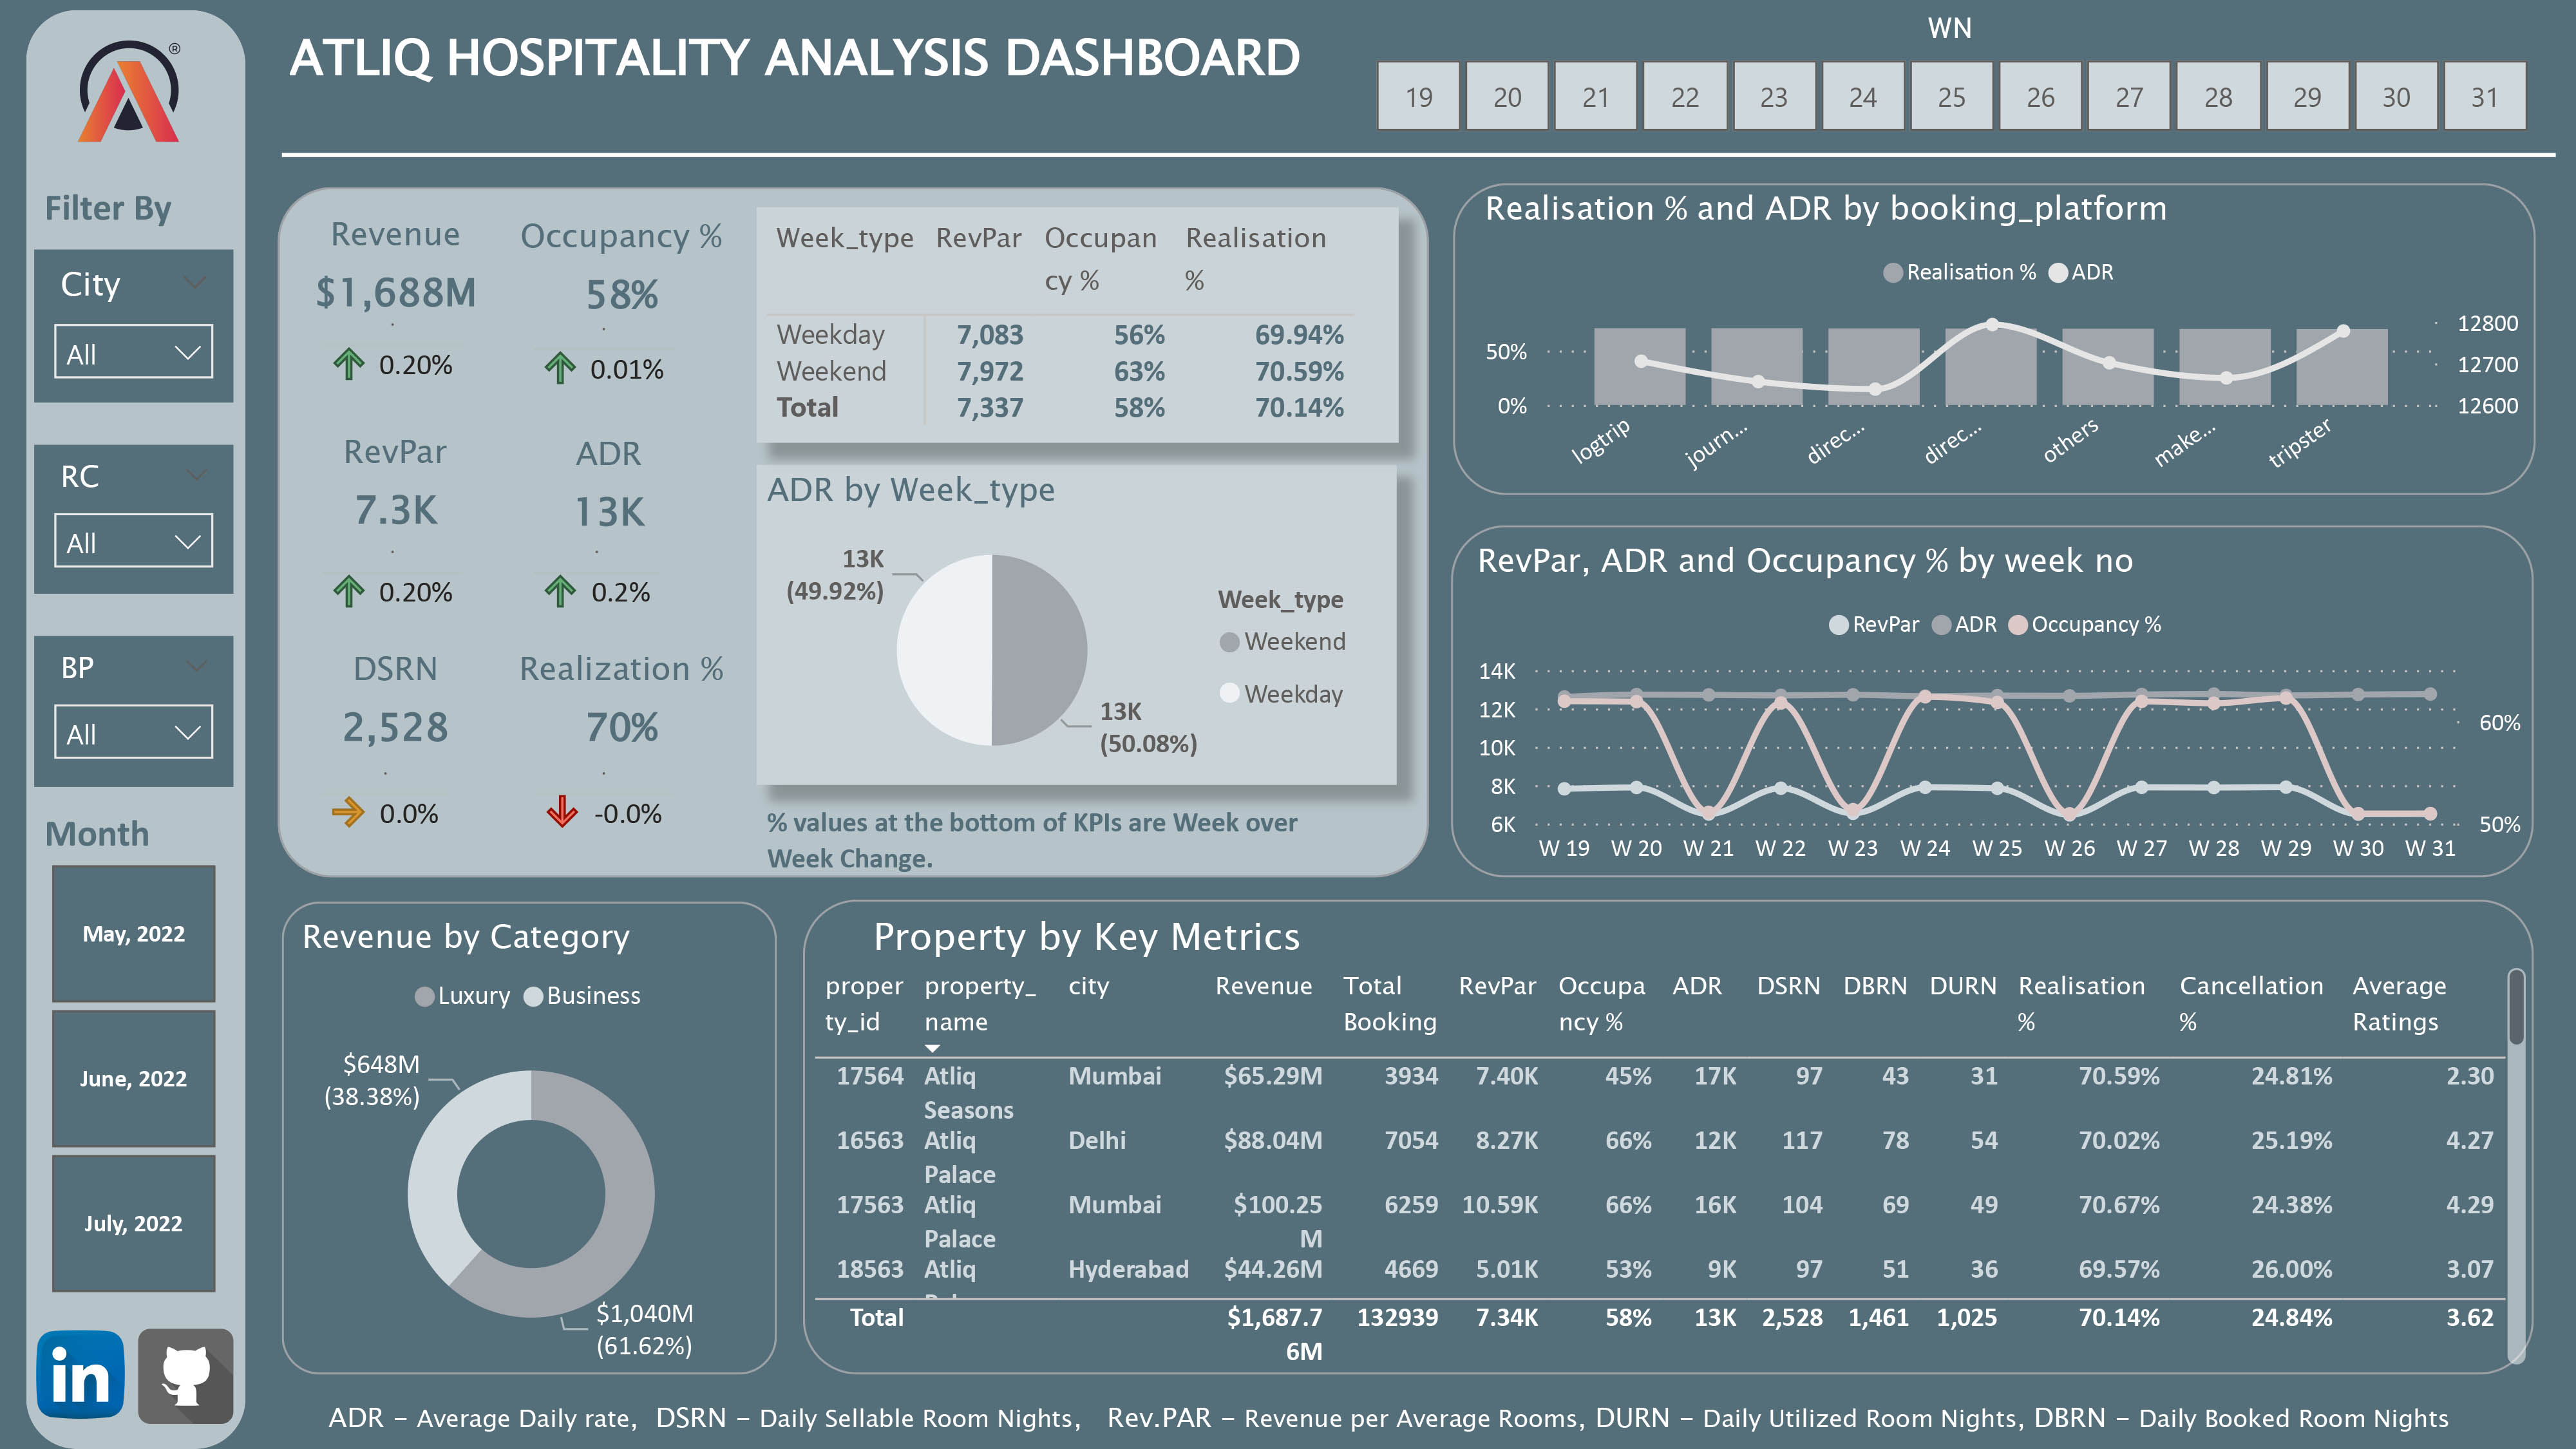

This screenshot's page, from the dashboard's own definition file:
{"tool":"powerbi","page":{"name":"Page 1","canvas":[1280,720],"ordinal":0},"visuals":[{"type":"shape","box":[138.3,92.5,571.8,343.7],"z":0},{"type":"shape","box":[139.5,447.6,246.3,235.1],"z":1000},{"type":"shape","box":[398.6,447.1,860,235.7],"z":2000},{"type":"shape","box":[13.3,5,108.3,715],"z":3000},{"type":"shape","box":[140,69.3,1130,15.7],"z":4000},{"type":"card","title":"Revenue","fields":{"Values":["Report measures.Revenue"]},"box":[151.4,99.4,91,80],"z":5000},{"type":"tableEx","fields":{"Values":["dim_hotels.property_id","dim_hotels.property_name","dim_hotels.city","Report measures.Revenue","Report measures.Total Booking","Report measures.RevPar","Report measures.Occupancy","Report measures.ADR","Report measures.DSRN","Report measures.DBRN","Report measures.DURN","Report measures.Realisation %"]},"box":[398.6,475.7,861.4,207.1],"z":6000},{"type":"slicer","fields":{"Values":["dim_hotels.city"]},"box":[17.1,124.3,98.6,75.7],"z":7000},{"type":"shape","box":[721.5,90.5,538.4,155.8],"z":8000},{"type":"shape","box":[721.1,261.2,538.3,175],"z":9000},{"type":"donutChart","fields":{"Y":["Report measures.Revenue"],"Category":["dim_hotels.category"]},"box":[142.3,475.4,243.5,207.3],"z":10000},{"type":"lineStackedColumnComboChart","fields":{"Y":["Report measures.Realisation %"],"Category":["fact_bookings.booking_platform"],"Y2":["Report measures.ADR"]},"box":[732.7,90.5,524.5,154.4],"z":11000},{"type":"lineChart","fields":{"Category":["dim_date.week no"],"Y2":["Report measures.Occupancy %"],"Y":["Report measures.RevPar","Report measures.ADR"]},"box":[729.5,266.1,528.3,171.7],"z":12000},{"type":"textbox","box":[428.6,447.1,298.6,48.6],"z":13000},{"type":"textbox","box":[144.5,447.8,225,48],"z":14000},{"type":"tableEx","fields":{"Values":["Report measures.Revenue WoW Change %"]},"box":[153.9,144.8,106.7,63.3],"z":15000},{"type":"card","title":"RevPar","fields":{"Values":["Report measures.RevPar"]},"box":[151.4,207.3,91,80],"z":16000},{"type":"tableEx","fields":{"Values":["Report measures.RevPar WoW Change %"]},"box":[153.9,258.2,106.7,73.3],"z":17000},{"type":"card","title":"DSRN","fields":{"Values":["Report measures.DSRN"]},"box":[151.4,315.2,91,80],"z":18000},{"type":"tableEx","fields":{"Values":["Report measures.DSRN WoW Change %"]},"box":[153.9,368.2,103.3,68.3],"z":19000},{"type":"card","title":"Occupancy %","fields":{"Values":["Report measures.Occupancy %"]},"box":[257.3,99.8,102.9,80],"z":20000},{"type":"tableEx","fields":{"Values":["Report measures.Occupancy WoW Change %"]},"box":[258.9,146.5,106.7,61.7],"z":21000},{"type":"card","title":"ADR","fields":{"Values":["Report measures.ADR"]},"box":[256.7,207.7,91,80],"z":22000},{"type":"tableEx","fields":{"Values":["Report measures.ADR WoW Change %"]},"box":[258.9,258.2,101.7,73.3],"z":23000},{"type":"card","title":"Realization %","fields":{"Values":["Report measures.Realisation %"]},"box":[257.3,315.2,102.9,80],"z":24000},{"type":"tableEx","fields":{"Values":["Report measures.Realisation WoW Change %"]},"box":[260.2,368.4,95.7,68.6],"z":25000},{"type":"pivotTable","fields":{"Rows":["dim_date.Week_type"],"Values":["Report measures.RevPar","Report measures.Occupancy %","Report measures.Realisation %"]},"box":[375.7,102.9,319,117.1],"z":26000},{"type":"pieChart","fields":{"Category":["dim_date.Week_type"],"Y":["Report measures.ADR"]},"box":[375.7,231.4,318.6,158.6],"z":27000},{"type":"slicer","fields":{"Values":["dim_rooms.room_class"]},"box":[17.1,220.7,98.6,74.3],"z":28000},{"type":"slicer","title":"WN","fields":{"Values":["dim_date.WN"]},"box":[658.1,5.6,621.9,66.8],"z":29000},{"type":"slicer","fields":{"Values":["fact_bookings.booking_platform"]},"box":[17.1,315.7,98.6,75.7],"z":30000},{"type":"slicer","fields":{"Values":["dim_date.mmm yy"]},"box":[0,422.9,131.4,225.7],"z":31000},{"type":"textbox","box":[154.3,688.6,1125.7,31.4],"z":32000},{"type":"textbox","box":[375.7,394.3,331.4,50],"z":33000},{"type":"image","box":[31.4,14.3,65.7,61.4],"z":34000},{"type":"image","box":[12.9,648.6,54.3,68.6],"z":35000},{"type":"image","box":[61.4,648.6,64.3,68.6],"z":36000},{"type":"textbox","box":[17.1,85.7,85.7,40],"z":37000},{"type":"textbox","box":[17.1,397.1,85.7,40],"z":38000},{"type":"textbox","box":[138.6,5.7,530,64.3],"z":39000}]}

Visuals, with their boxes in screenshot pixels (x1, y1, x2, y2), scaled from the page's 1280x720 canvas onto the 2576x1449 screenshot:
shape: [x1=278, y1=186, x2=1429, y2=878]
shape: [x1=281, y1=901, x2=777, y2=1374]
shape: [x1=802, y1=900, x2=2533, y2=1374]
shape: [x1=27, y1=10, x2=245, y2=1448]
shape: [x1=282, y1=140, x2=2556, y2=171]
"Revenue" card: [x1=305, y1=200, x2=488, y2=361]
tableEx - dim_hotels.property_id x dim_hotels.property_name: [x1=802, y1=958, x2=2536, y2=1374]
slicer - dim_hotels.city: [x1=34, y1=250, x2=233, y2=402]
shape: [x1=1452, y1=182, x2=2535, y2=496]
shape: [x1=1451, y1=526, x2=2535, y2=878]
donutChart - Report measures.Revenue x dim_hotels.category: [x1=287, y1=957, x2=777, y2=1374]
lineStackedColumnComboChart - Report measures.Realisation % x fact_bookings.booking_platform: [x1=1475, y1=182, x2=2530, y2=493]
lineChart - dim_date.week no x Report measures.Occupancy %: [x1=1468, y1=536, x2=2532, y2=881]
textbox: [x1=862, y1=900, x2=1463, y2=998]
textbox: [x1=291, y1=901, x2=744, y2=998]
tableEx - Report measures.Revenue WoW Change %: [x1=310, y1=292, x2=524, y2=419]
"RevPar" card: [x1=305, y1=417, x2=488, y2=578]
tableEx - Report measures.RevPar WoW Change %: [x1=310, y1=520, x2=524, y2=667]
"DSRN" card: [x1=305, y1=634, x2=488, y2=795]
tableEx - Report measures.DSRN WoW Change %: [x1=310, y1=741, x2=518, y2=878]
"Occupancy %" card: [x1=518, y1=201, x2=725, y2=362]
tableEx - Report measures.Occupancy WoW Change %: [x1=521, y1=295, x2=735, y2=419]
"ADR" card: [x1=516, y1=418, x2=700, y2=579]
tableEx - Report measures.ADR WoW Change %: [x1=521, y1=520, x2=726, y2=667]
"Realization %" card: [x1=518, y1=634, x2=725, y2=795]
tableEx - Report measures.Realisation WoW Change %: [x1=524, y1=741, x2=716, y2=880]
pivotTable - dim_date.Week_type x Report measures.RevPar: [x1=756, y1=207, x2=1398, y2=443]
pieChart - dim_date.Week_type x Report measures.ADR: [x1=756, y1=466, x2=1397, y2=785]
slicer - dim_rooms.room_class: [x1=34, y1=444, x2=233, y2=594]
"WN" slicer: [x1=1325, y1=12, x2=2575, y2=146]
slicer - fact_bookings.booking_platform: [x1=34, y1=636, x2=233, y2=788]
slicer - dim_date.mmm yy: [x1=0, y1=851, x2=265, y2=1305]
textbox: [x1=310, y1=1386, x2=2575, y2=1448]
textbox: [x1=756, y1=793, x2=1423, y2=894]
image: [x1=63, y1=29, x2=195, y2=153]
image: [x1=26, y1=1305, x2=135, y2=1443]
image: [x1=124, y1=1305, x2=253, y2=1443]
textbox: [x1=34, y1=173, x2=207, y2=253]
textbox: [x1=34, y1=799, x2=207, y2=880]
textbox: [x1=279, y1=12, x2=1345, y2=141]
